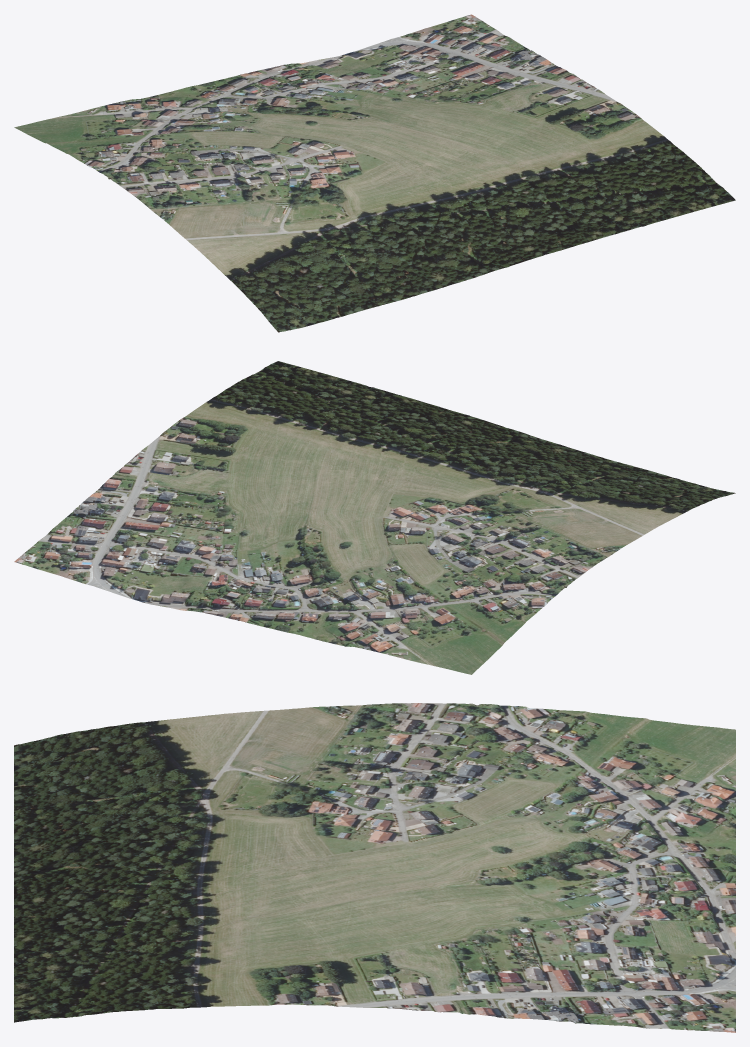
File: terrain_1_1.glb
The picture shows the model from 3 angles, top to bottom: view 1: azimuth 30°, elevation 25°; view 2: azimuth 150°, elevation 25°; view 3: azimuth 270°, elevation 25°; orthographic projection. The views are drawn at different scales.
Parts seen in each view (by area): view 1: geometry_0; view 2: geometry_0; view 3: geometry_0.
Part boxes in pixels (left/top/right/bottom): geometry_0: left=14, top=14, right=735, bottom=332; geometry_0: left=14, top=361, right=735, bottom=674; geometry_0: left=14, top=703, right=735, bottom=1032.
Bounding box in the file's own units: 499 × 36.19 × 499.
Materials: 1 (1 with a texture image).
